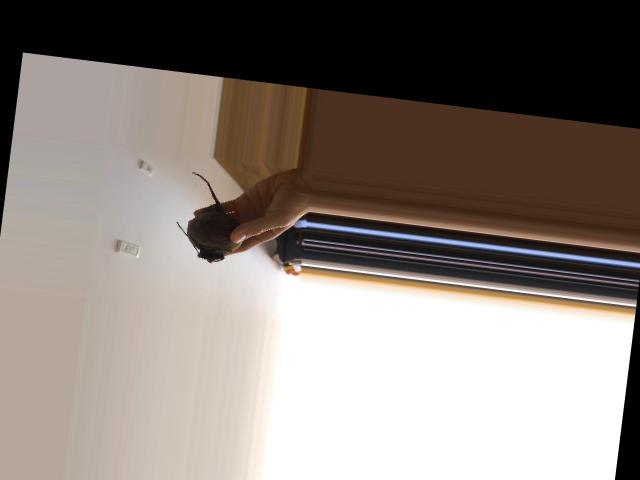beet: (171, 170, 250, 266)
